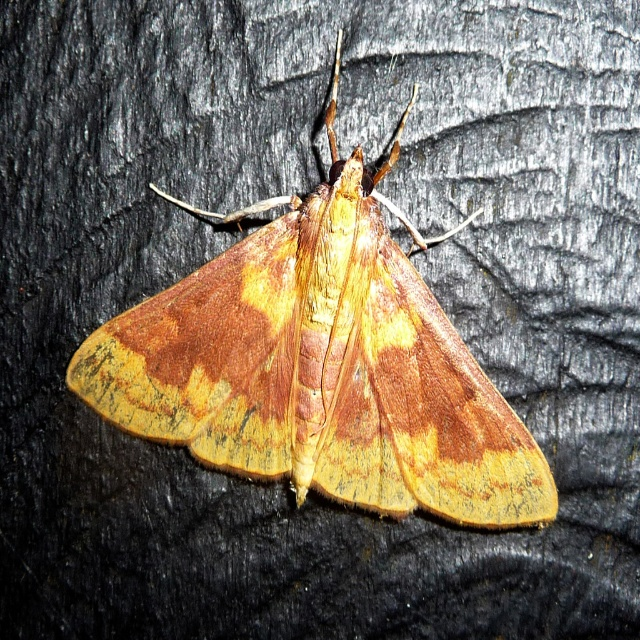Butterfly: (79, 24, 566, 525)
